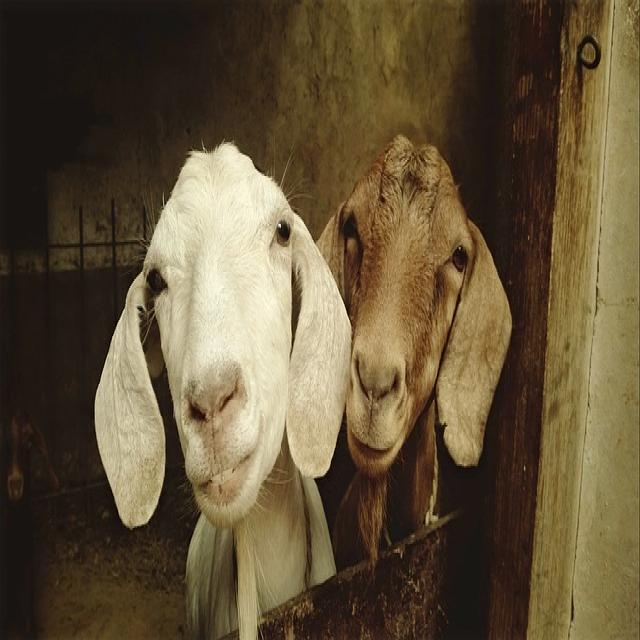goat: (93, 142, 352, 640), (316, 137, 513, 564)
